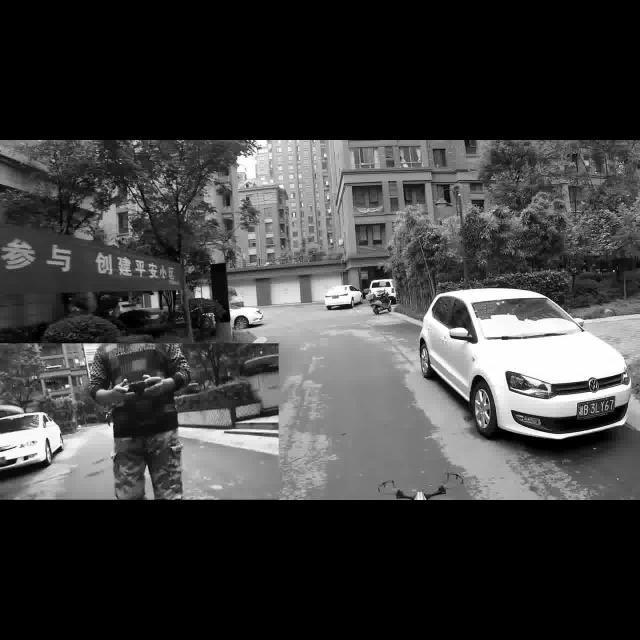Drons: (378, 472, 464, 499)
